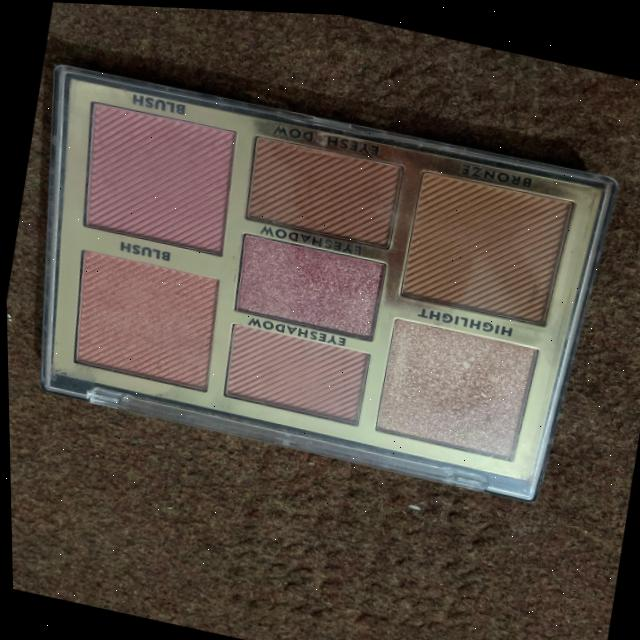blush: (55, 84, 253, 263), (50, 237, 229, 403)
bronzer: (380, 148, 585, 330)
eye shade: (231, 121, 407, 253), (221, 225, 394, 347), (208, 314, 373, 428)
highlighter: (359, 297, 555, 470)
